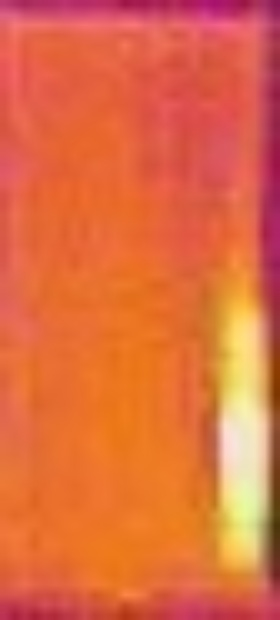Diode: (205, 292, 276, 589)
